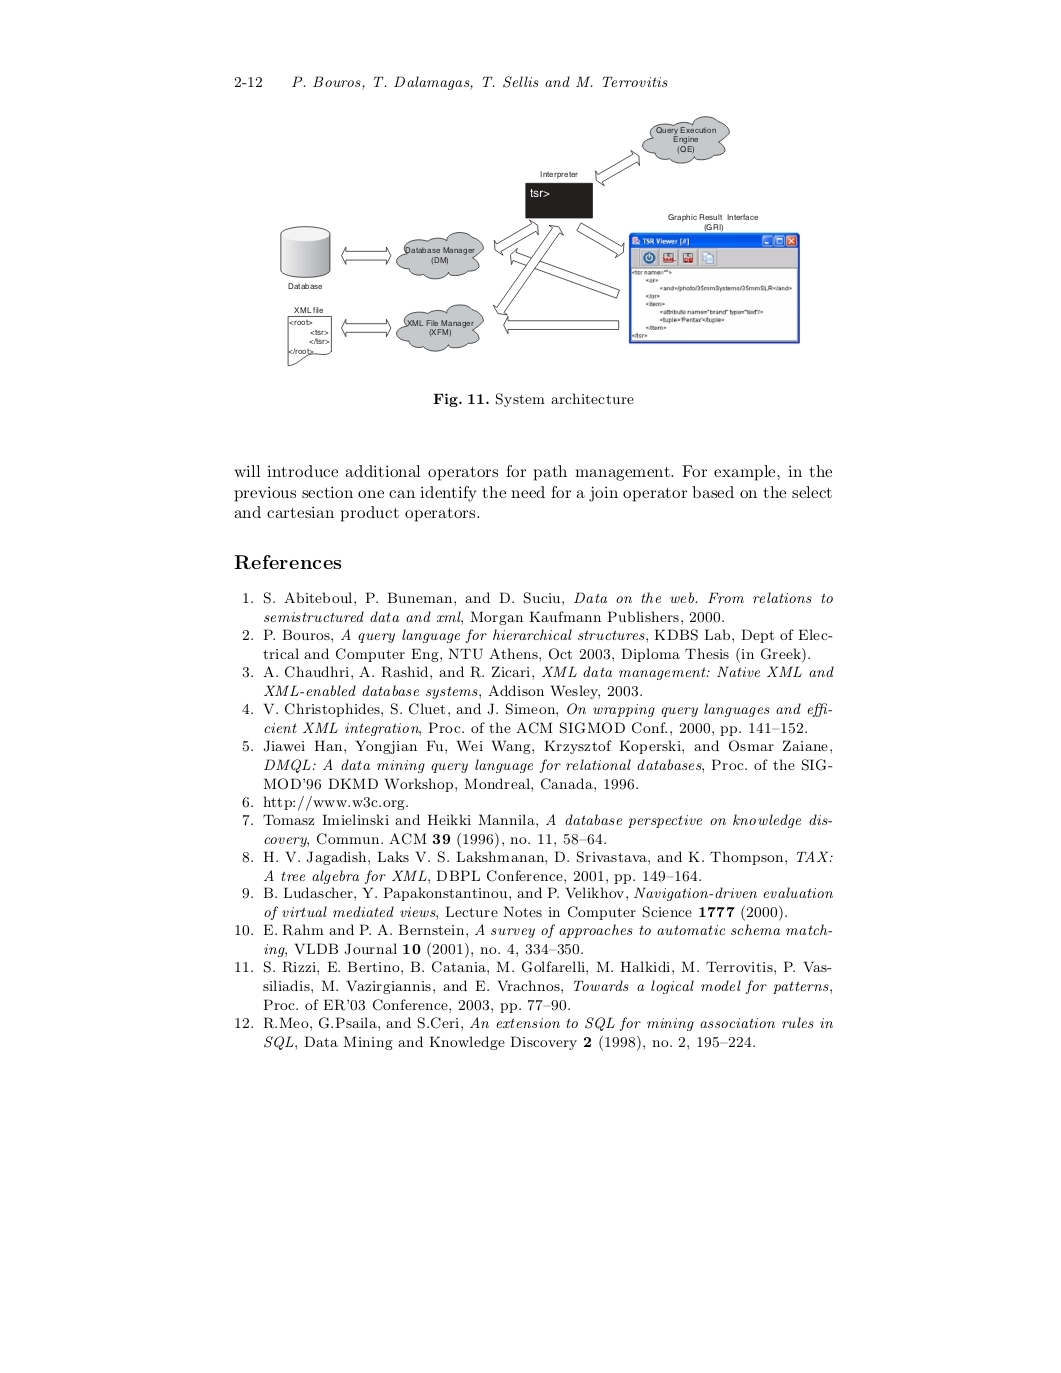figure: (280, 115, 799, 367)
